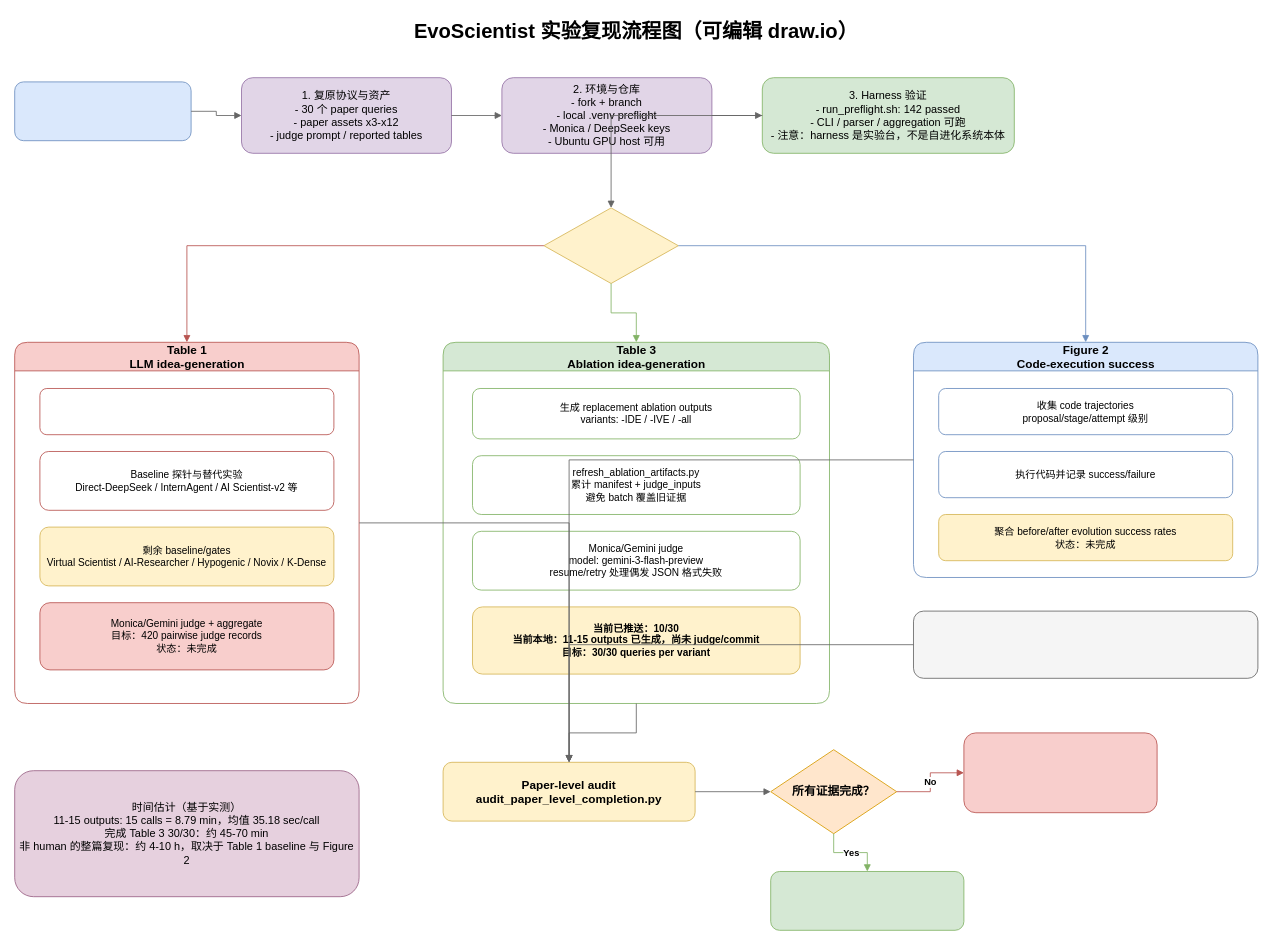
The diagram is 1273 pixels wide and 945 high, and some of its shapes have lost their labels. Each missing label, with the centre of its shape:
EvoScientist 30-query outputs 已生成/抓取: point 186,411
No：继续补缺口 Table 3 16-30 Table 1 baselines Figure 2 execution: point 1060,772
Table 2 human judge 按用户要求暂时 deferred: point 1085,644
Yes：标记复现完成 update_goal complete: point 867,900
并行实验分支: point 610,245
目标：复现论文实验 arXiv:2603.08127: point 102,111
